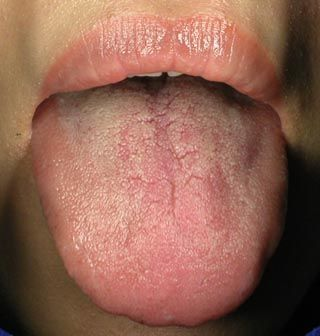baitaishe: (31, 76, 287, 328)
